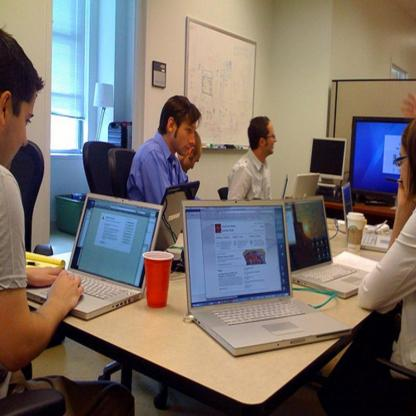board: (180, 201, 352, 357), (50, 186, 156, 328), (284, 195, 370, 300), (160, 182, 200, 250), (143, 251, 173, 307), (346, 212, 366, 253), (289, 174, 320, 200), (282, 174, 287, 199)
